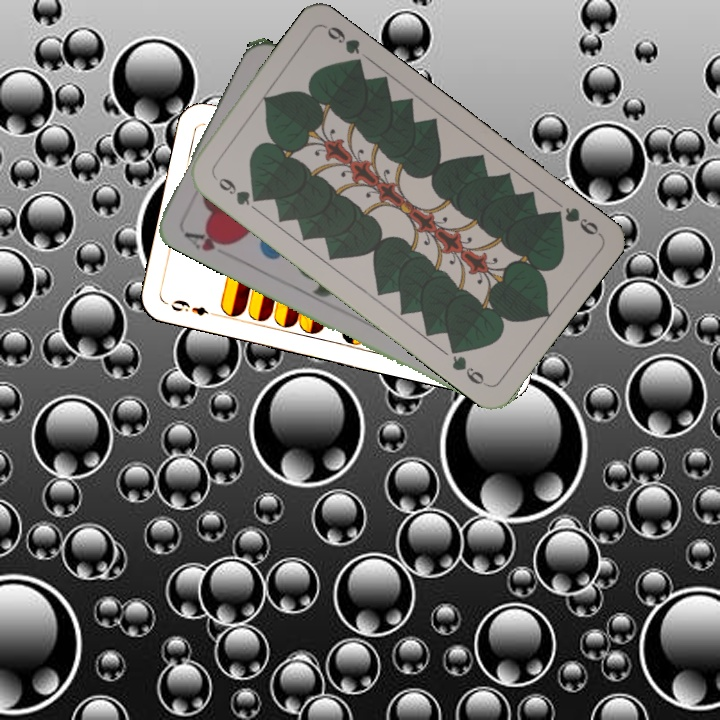E9: (167, 295, 220, 319)
G9: (209, 171, 263, 213), (546, 203, 603, 238)
HA: (179, 225, 237, 254)
